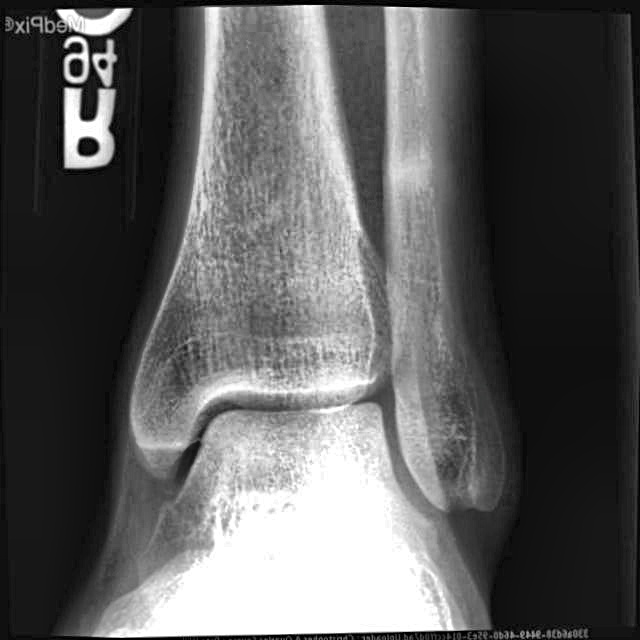Healthy: (108, 31, 535, 581)
